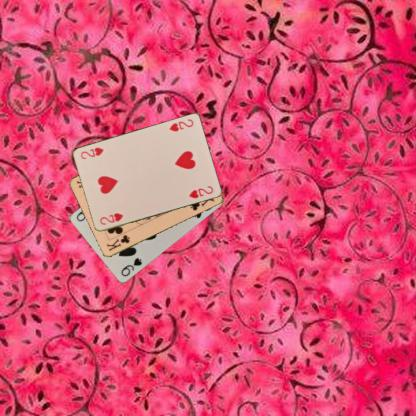2h: (166, 117, 195, 133), (97, 210, 124, 226)
9s: (118, 255, 144, 278)
Kc: (104, 232, 131, 252)
